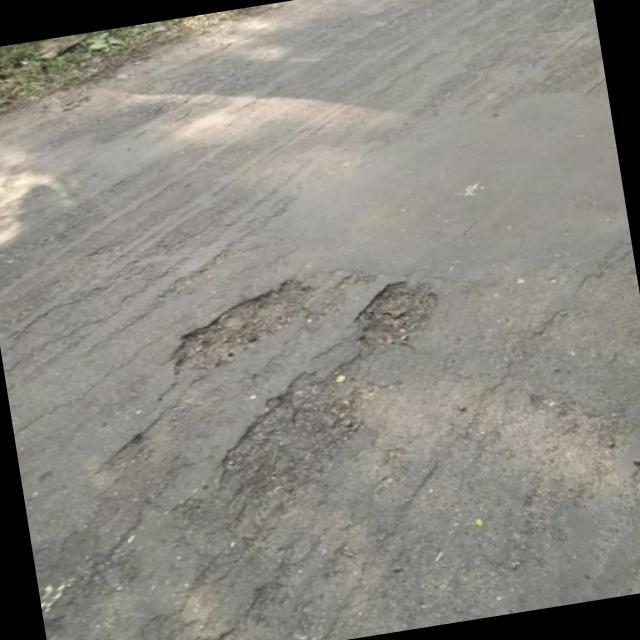Pothole: (223, 374, 367, 503), (176, 279, 315, 371), (356, 282, 437, 355)
